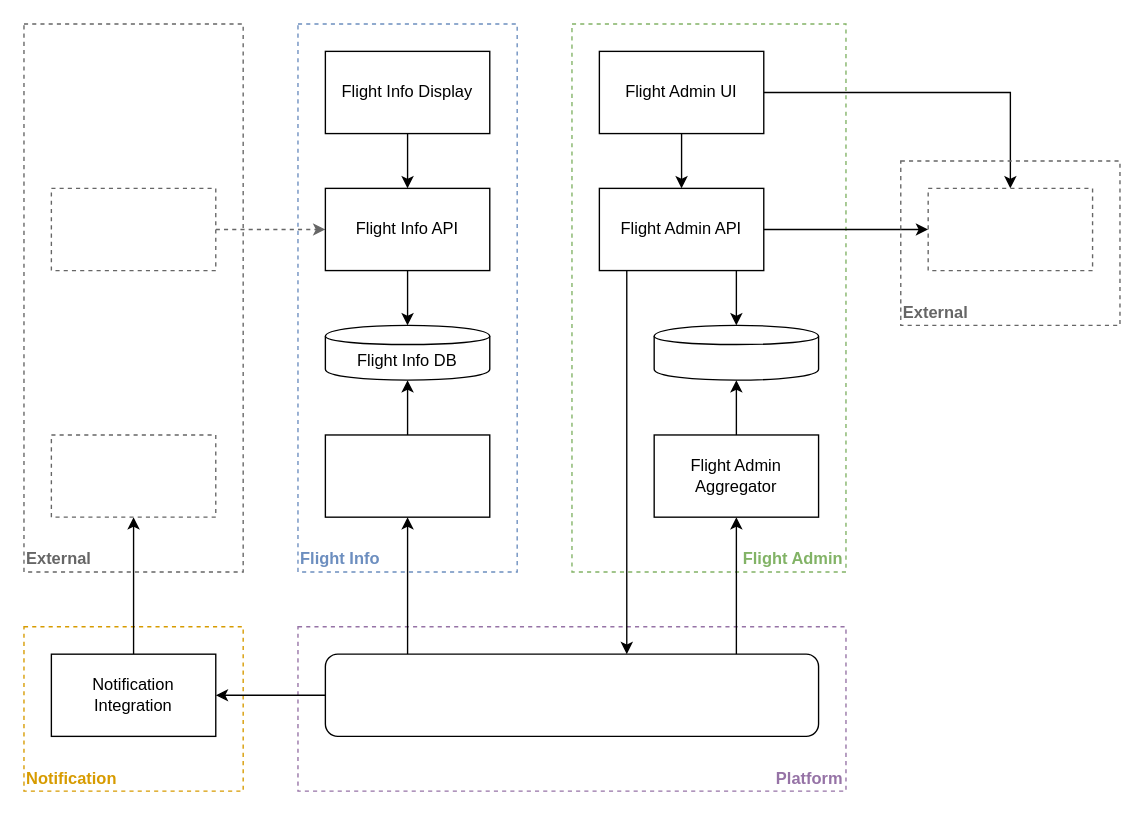
Some shapes in this 1144 by 815 pixel diagram are drawn without their labels. The shapes that lost their labels are listed below. From the top down, each one's centre as x and y in pixels, then its label:
At (133,229): "Ticker Board".
At (1010,229): "Identity Provider".
At (736,352): "Flight Admin DB".
At (133,475): "Notification Provider".
At (407,475): "Flight Info Aggregator".
At (571,694): "Event Store".
